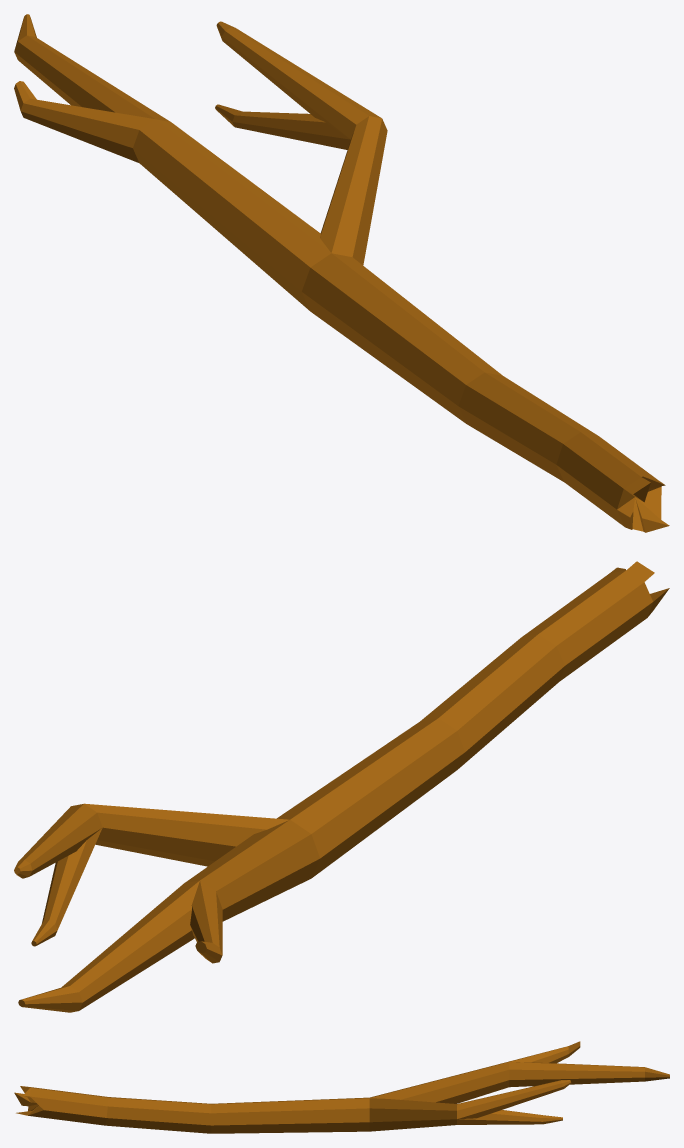
File: stick_01.fbx
3 renders of one model, top to bottom at view 1: azimuth 30°, elevation 25°; view 2: azimuth 150°, elevation 25°; view 3: azimuth 270°, elevation 25°, orthographic. The views are drawn at different scales.
Parts seen in each view (by area): view 1: Cylinder; view 2: Cylinder; view 3: Cylinder.
Part boxes in pixels (x1,y1,x2,y2): Cylinder: [14, 14, 669, 532]; Cylinder: [14, 561, 669, 1012]; Cylinder: [14, 1041, 669, 1133].
Bounding box in the file's own units: 108 × 54.64 × 446.
